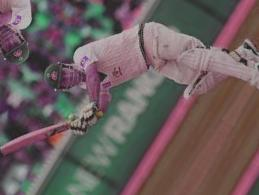batsman: (25, 28, 259, 148)
